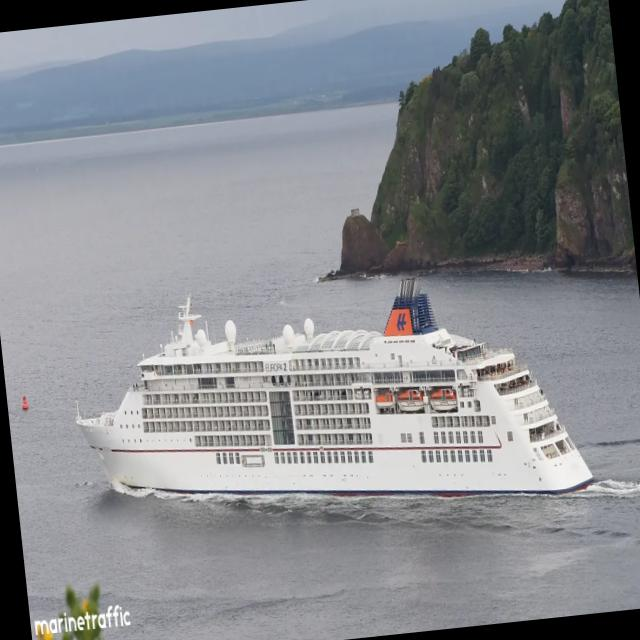Cruise: (76, 277, 592, 495)
